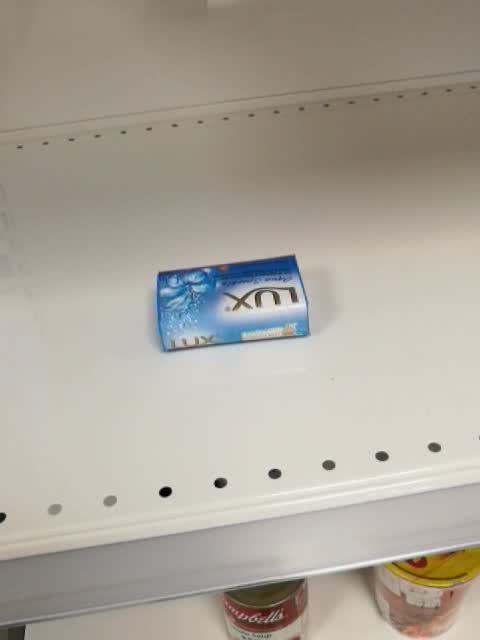soap: (153, 254, 317, 354)
